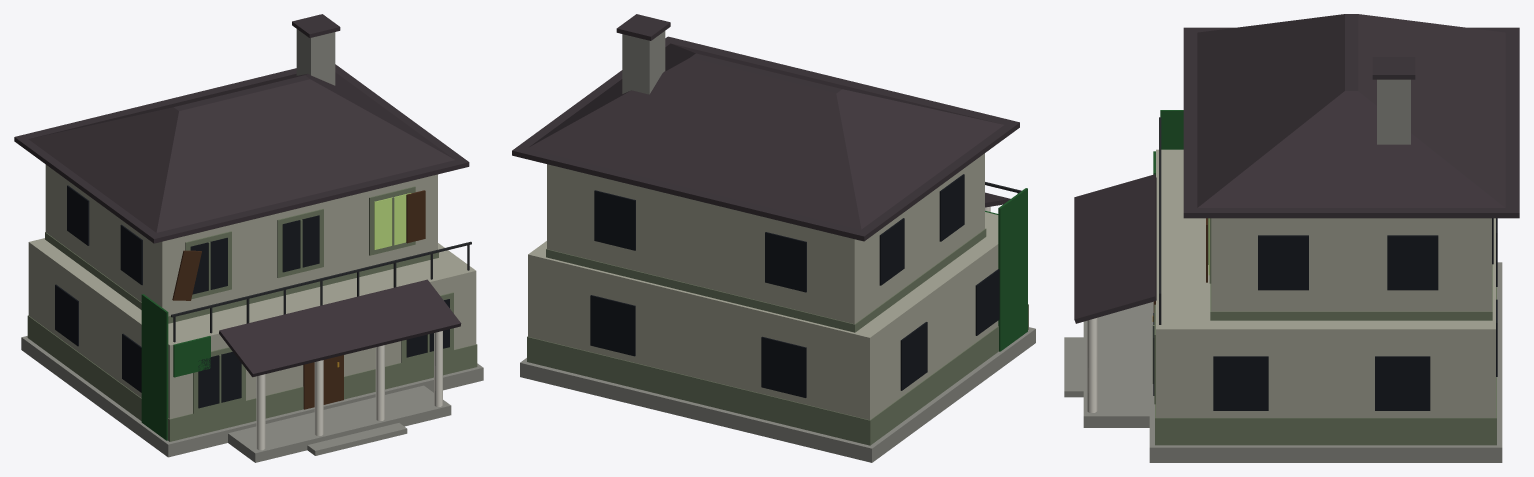
Rendered from villa_puncak.glb.
3 views of the same model, side by side, from view 1: azimuth 30°, elevation 25°; view 2: azimuth 150°, elevation 25°; view 3: azimuth 270°, elevation 25° (orthographic). The views are drawn at different scales.
Parts seen in each view (by area): view 1: body; view 2: body; view 3: body.
Boxes of the visible parts, x1,y1,x2,y2 form: body: (14, 14, 483, 462); body: (512, 14, 1035, 462); body: (1064, 14, 1519, 462).
Bounding box in the file's own units: 10.3 × 9.3 × 10.7.
1 material, 1 textured.
